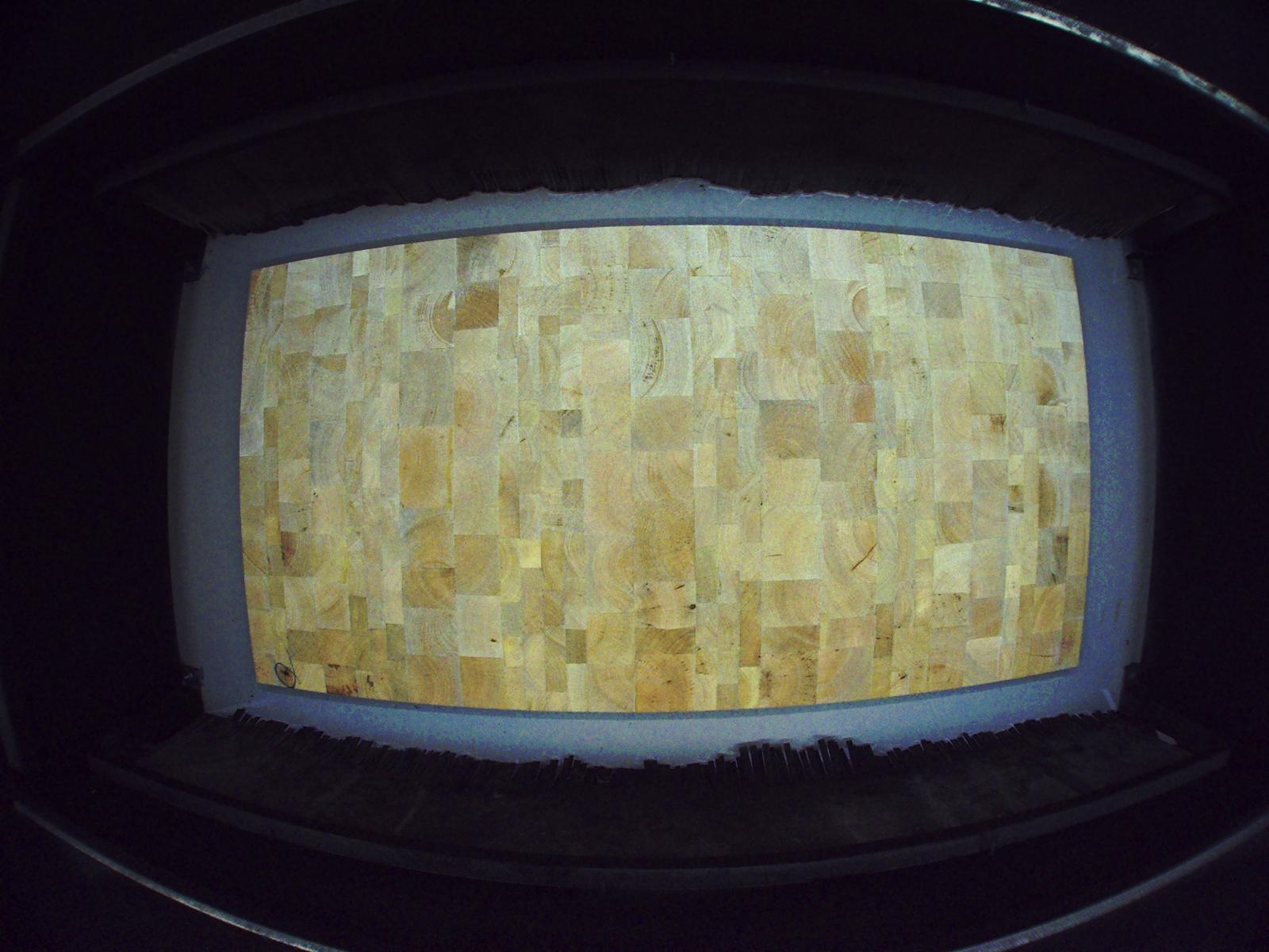sheck_ecuatoriano: (280, 667, 291, 680)
